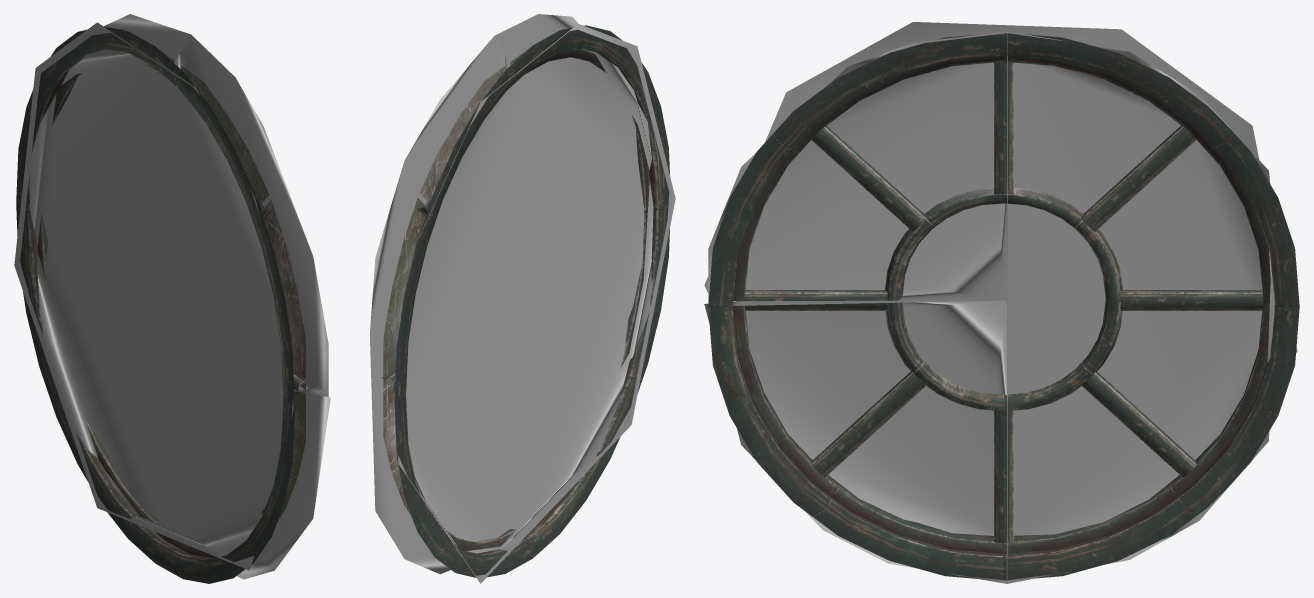
File: SM_Window_Frame_03.gltf
3 views of the same model, side by side, from view 1: azimuth 30°, elevation 25°; view 2: azimuth 150°, elevation 25°; view 3: azimuth 270°, elevation 25° (orthographic). The views are drawn at different scales.
Visible parts, largest first — view 1: SM_Window_Frame_03_ConvexHulls, SM_Window_Frame_03_LOD0; view 2: SM_Window_Frame_03_ConvexHulls, SM_Window_Frame_03_LOD0; view 3: SM_Window_Frame_03_ConvexHulls, SM_Window_Frame_03_LOD0.
Boxes of the visible parts, left/top/right/bottom form: SM_Window_Frame_03_ConvexHulls: left=14, top=14, right=330, bottom=579; SM_Window_Frame_03_LOD0: left=16, top=26, right=307, bottom=583; SM_Window_Frame_03_ConvexHulls: left=370, top=14, right=675, bottom=583; SM_Window_Frame_03_LOD0: left=382, top=25, right=669, bottom=577; SM_Window_Frame_03_ConvexHulls: left=704, top=22, right=1297, bottom=583; SM_Window_Frame_03_LOD0: left=708, top=33, right=1299, bottom=580.
Size of what is drawn, in the model's own units: 0.1382 by 1.71 by 1.67.
